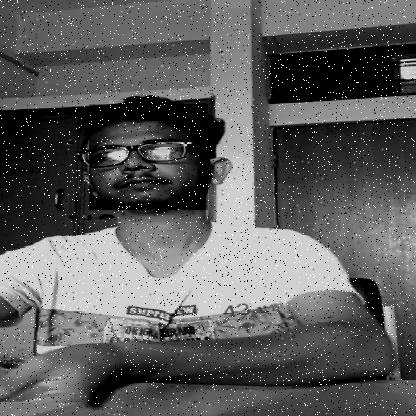Normal: (89, 104, 208, 210)
